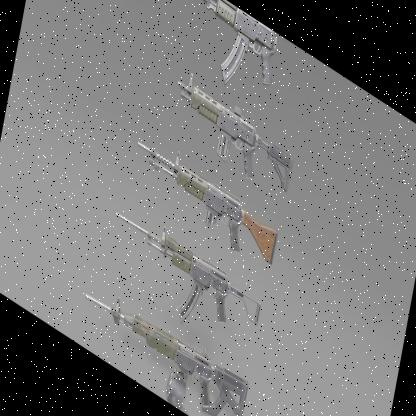rifle: (110, 197, 268, 365), (129, 126, 289, 278), (167, 58, 300, 210)
